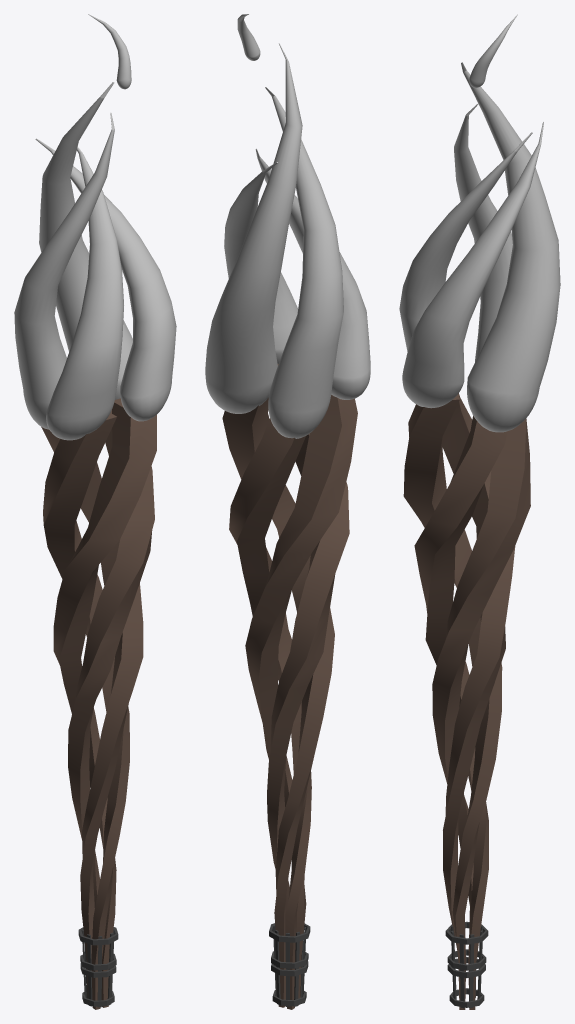
File: antorcha.fbx
3 views of the same model, side by side, from view 1: azimuth 30°, elevation 25°; view 2: azimuth 150°, elevation 25°; view 3: azimuth 270°, elevation 25° (orthographic). The views are drawn at different scales.
Parts seen in each view (by area): view 1: polySurface32, polySurface28, polySurface34, polySurface33, polySurface36, polySurface31, polySurface30, polySurface29, polySurface35; view 2: polySurface29, polySurface34, polySurface36, polySurface30, polySurface32, polySurface33, polySurface28, polySurface31, polySurface35; view 3: polySurface29, polySurface30, polySurface33, polySurface31, polySurface32, polySurface34, polySurface28, polySurface36, polySurface35, polySurface37.
Part boxes in pixels (x1,y1,x2,y2): polySurface32: (53,398,156,1007); polySurface28: (46,147,123,440); polySurface34: (43,413,129,1009); polySurface33: (68,410,154,907); polySurface36: (14,112,114,429); polySurface31: (35,138,176,421); polySurface30: (41,427,143,998); polySurface29: (39,82,132,399); polySurface35: (88,14,131,89); polySurface29: (205,43,302,413); polySurface34: (245,395,357,1005); polySurface36: (265,87,343,438); polySurface30: (229,418,311,1009); polySurface32: (267,364,349,908); polySurface33: (222,397,334,1007); polySurface28: (255,148,370,399); polySurface31: (224,162,297,363); polySurface35: (237,14,260,60); polySurface29: (461,62,560,432); polySurface30: (432,418,530,997); polySurface33: (414,416,507,1009); polySurface31: (402,122,543,408); polySurface32: (403,394,502,1009); polySurface34: (442,393,515,959); polySurface28: (399,132,532,351); polySurface36: (454,103,512,361); polySurface35: (469,14,517,87); polySurface37: (445,921,488,944).
Size of the model in its own units: 27.19 by 194 by 28.36.
